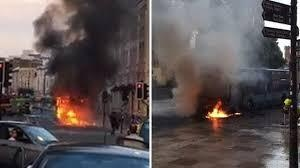fire: (51, 91, 96, 128), (204, 96, 238, 119)
